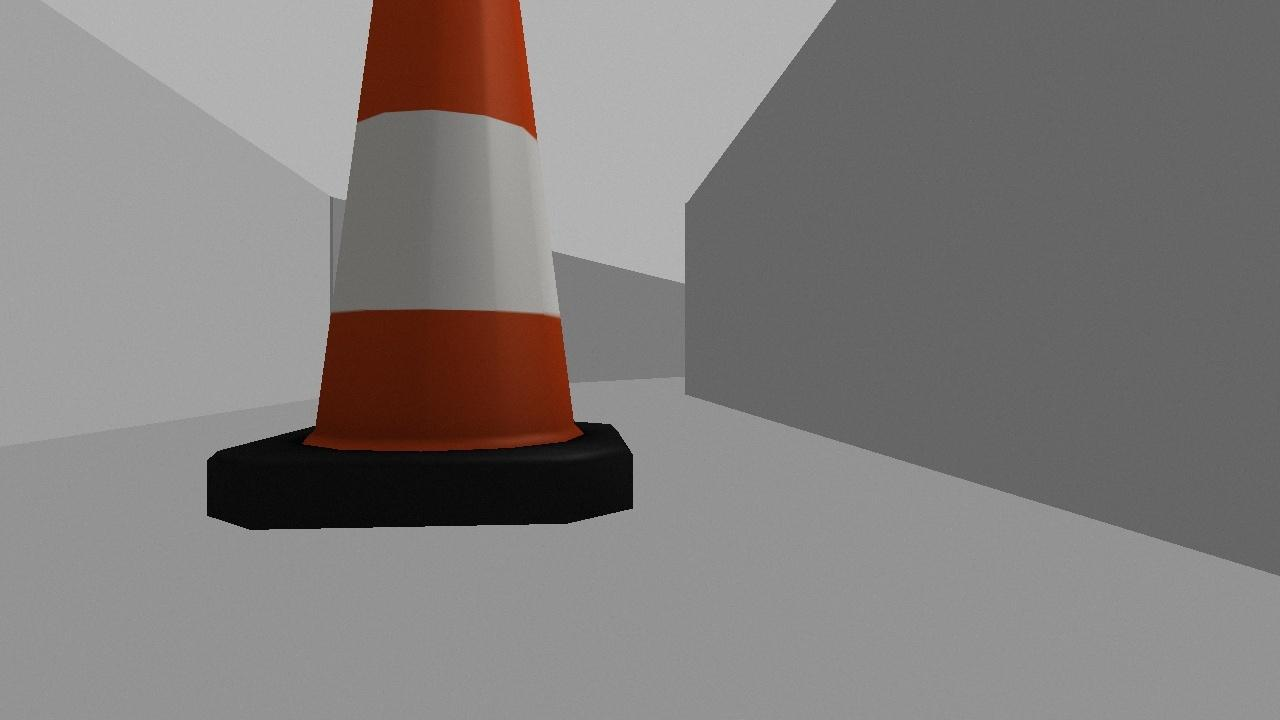cone_barrel: (205, 0, 636, 532)
